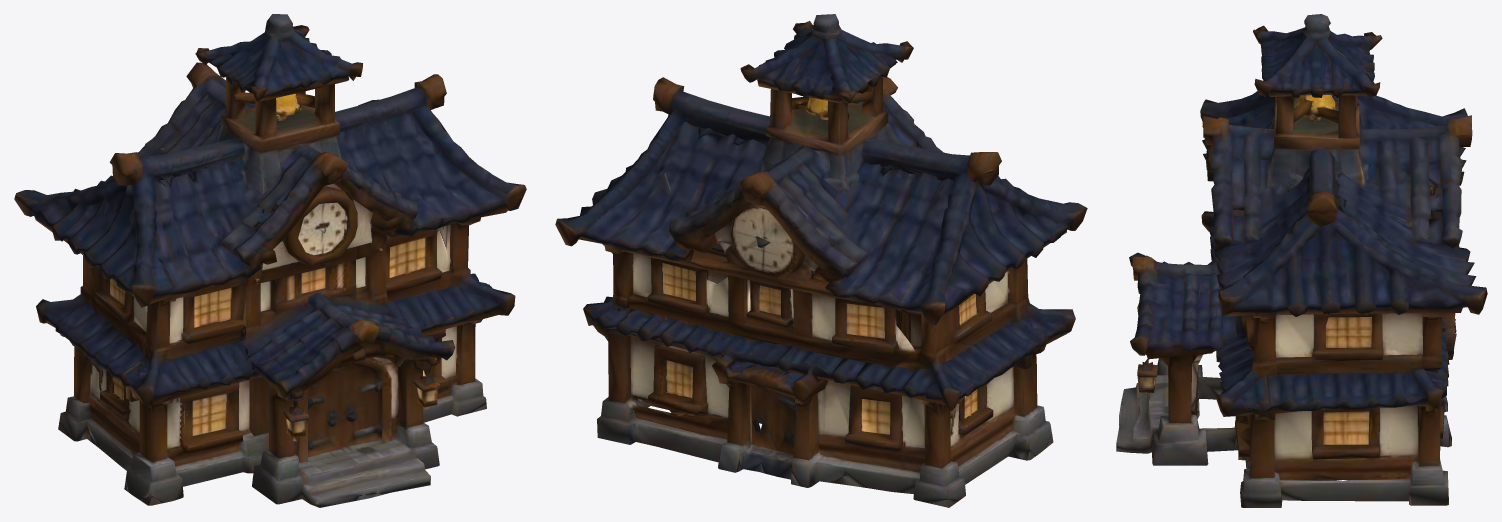
Rendered from candidate.glb.
3 views of the same model, side by side, from view 1: azimuth 30°, elevation 25°; view 2: azimuth 150°, elevation 25°; view 3: azimuth 270°, elevation 25° (orthographic).
Parts seen in each view (by area): view 1: compact__civic_hall__native_mobile; view 2: compact__civic_hall__native_mobile; view 3: compact__civic_hall__native_mobile.
Boxes of the visible parts, <box> form: compact__civic_hall__native_mobile: <box>14,14,526,507</box>; compact__civic_hall__native_mobile: <box>555,14,1087,507</box>; compact__civic_hall__native_mobile: <box>1116,14,1487,507</box>.
Size of the model in its own units: 1 by 0.9787 by 0.7958.
1 material, 1 textured.
